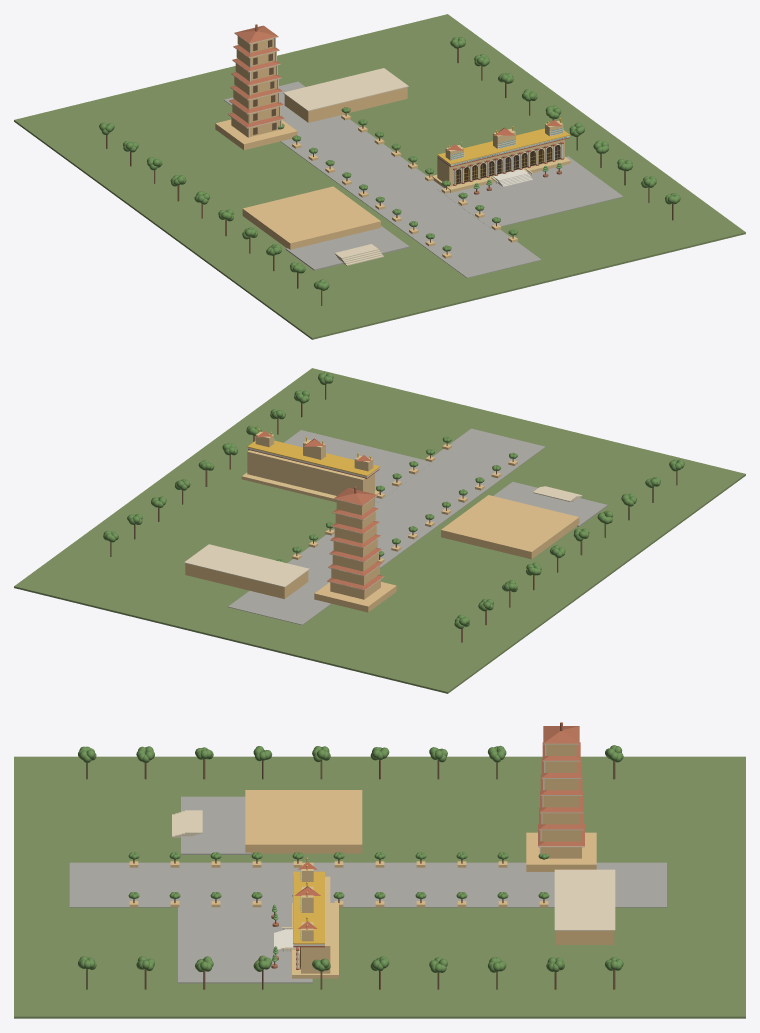
Rendered from bo-cuc-theo-anh.glb.
3 views of the same model, one above another, from view 1: azimuth 30°, elevation 25°; view 2: azimuth 150°, elevation 25°; view 3: azimuth 270°, elevation 25° (orthographic). The views are drawn at different scales.
Visible parts, largest first — view 1: Nền khuôn viên, Sân hành lang dọc, Sân trước chính điện, Bệ khu tượng Di Lặc, Viền bệ tượng nằm, Sân trước khu Di Lặc, Bệ khu tượng nằm, Viền mái trên, Nền tháp, Khối kiến trúc, Nền chính điện; view 2: Nền khuôn viên, Sân hành lang dọc, Bệ khu tượng Di Lặc, Khối kiến trúc, Viền bệ tượng nằm, Sân trước chính điện, Sân trước khu Di Lặc, Bệ khu tượng nằm, Viền mái trên, Nền tháp, Nền chính điện; view 3: Nền khuôn viên, Sân hành lang dọc, Sân trước chính điện, Bệ khu tượng Di Lặc, Viền bệ tượng nằm, Sân trước khu Di Lặc, Viền mái trên, Nền tháp, Nền chính điện, Khối kiến trúc, Bệ khu tượng nằm, Mái tháp.006.
Boxes of the visible parts, box(x1,y1,x2,y2) form: Nền khuôn viên: box(14, 14, 745, 339); Sân hành lang dọc: box(224, 81, 541, 278); Sân trước chính điện: box(436, 156, 623, 228); Bệ khu tượng Di Lặc: box(242, 186, 380, 249); Viền bệ tượng nằm: box(283, 68, 408, 111); Sân trước khu Di Lặc: box(285, 226, 409, 270); Bệ khu tượng nằm: box(284, 87, 407, 122); Viền mái trên: box(437, 128, 570, 164); Nền tháp: box(215, 119, 297, 150); Khối kiến trúc: box(437, 139, 564, 186); Nền chính điện: box(431, 157, 570, 192); Nền khuôn viên: box(14, 368, 745, 693); Sân hành lang dọc: box(228, 428, 545, 625); Bệ khu tượng Di Lặc: box(441, 495, 579, 559); Khối kiến trúc: box(247, 450, 374, 495); Viền bệ tượng nằm: box(184, 544, 309, 587); Sân trước chính điện: box(246, 430, 432, 502); Sân trước khu Di Lặc: box(493, 482, 607, 526); Bệ khu tượng nằm: box(185, 563, 308, 598); Viền mái trên: box(247, 440, 380, 476); Nền tháp: box(314, 582, 396, 612); Nền chính điện: box(241, 472, 379, 502); Nền khuôn viên: box(14, 756, 745, 1018); Sân hành lang dọc: box(69, 862, 666, 907); Sân trước chính điện: box(178, 903, 312, 983); Bệ khu tượng Di Lặc: box(245, 790, 362, 853); Viền bệ tượng nằm: box(554, 869, 615, 930); Sân trước khu Di Lặc: box(181, 796, 251, 854); Viền mái trên: box(293, 871, 324, 944); Nền tháp: box(526, 832, 596, 871); Nền chính điện: box(292, 903, 338, 978); Khối kiến trúc: box(301, 876, 330, 973); Bệ khu tượng nằm: box(555, 931, 614, 944); Mái tháp.006: box(543, 726, 579, 743).
Bounding box in the file's own units: 105 × 25.68 × 125.
